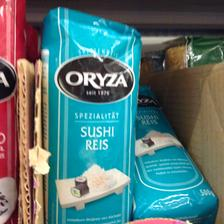Reis: (40, 5, 140, 222), (134, 86, 218, 222)
